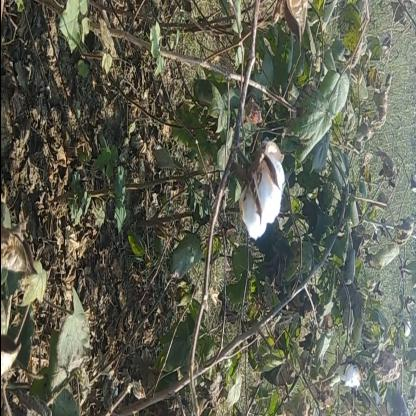cotton_ready: (210, 120, 290, 258)
